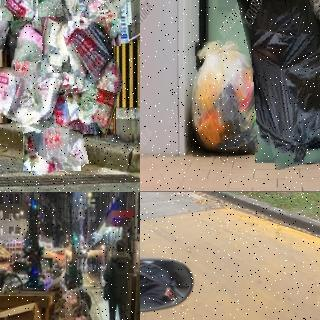Garbage: (245, 0, 320, 166), (187, 39, 273, 156), (19, 87, 85, 174), (65, 20, 118, 90), (11, 59, 63, 130), (69, 72, 120, 136), (73, 0, 124, 48), (42, 17, 82, 73), (11, 21, 48, 77), (0, 67, 17, 123), (57, 0, 99, 21), (2, 0, 38, 21), (0, 0, 11, 51)
